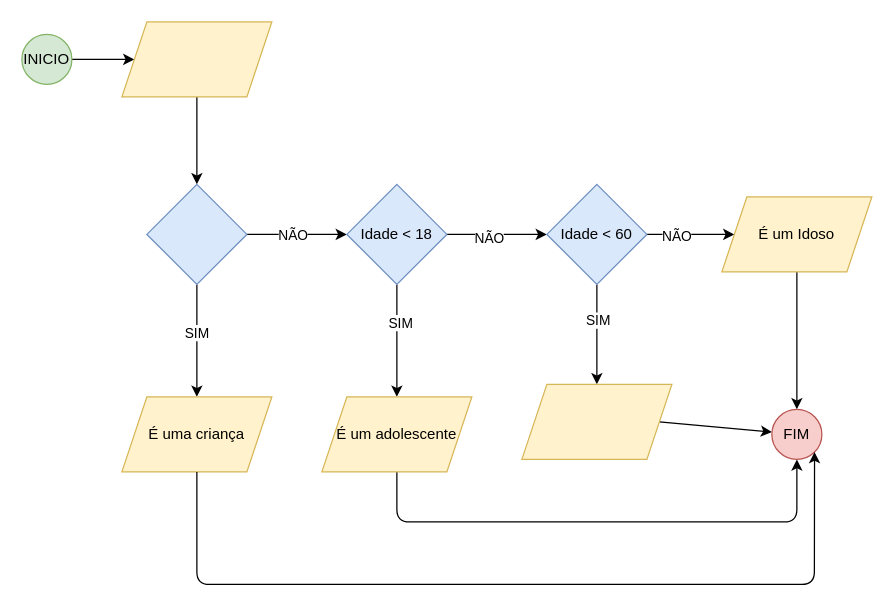
Some shapes in this 894 by 616 pixel diagram are drawn without their labels. Each missing label, with the box of its shape:
Idade < 12: (146, 183, 247, 284)
Informe a idade: (121, 21, 272, 97)
É um adulto: (521, 383, 672, 459)
